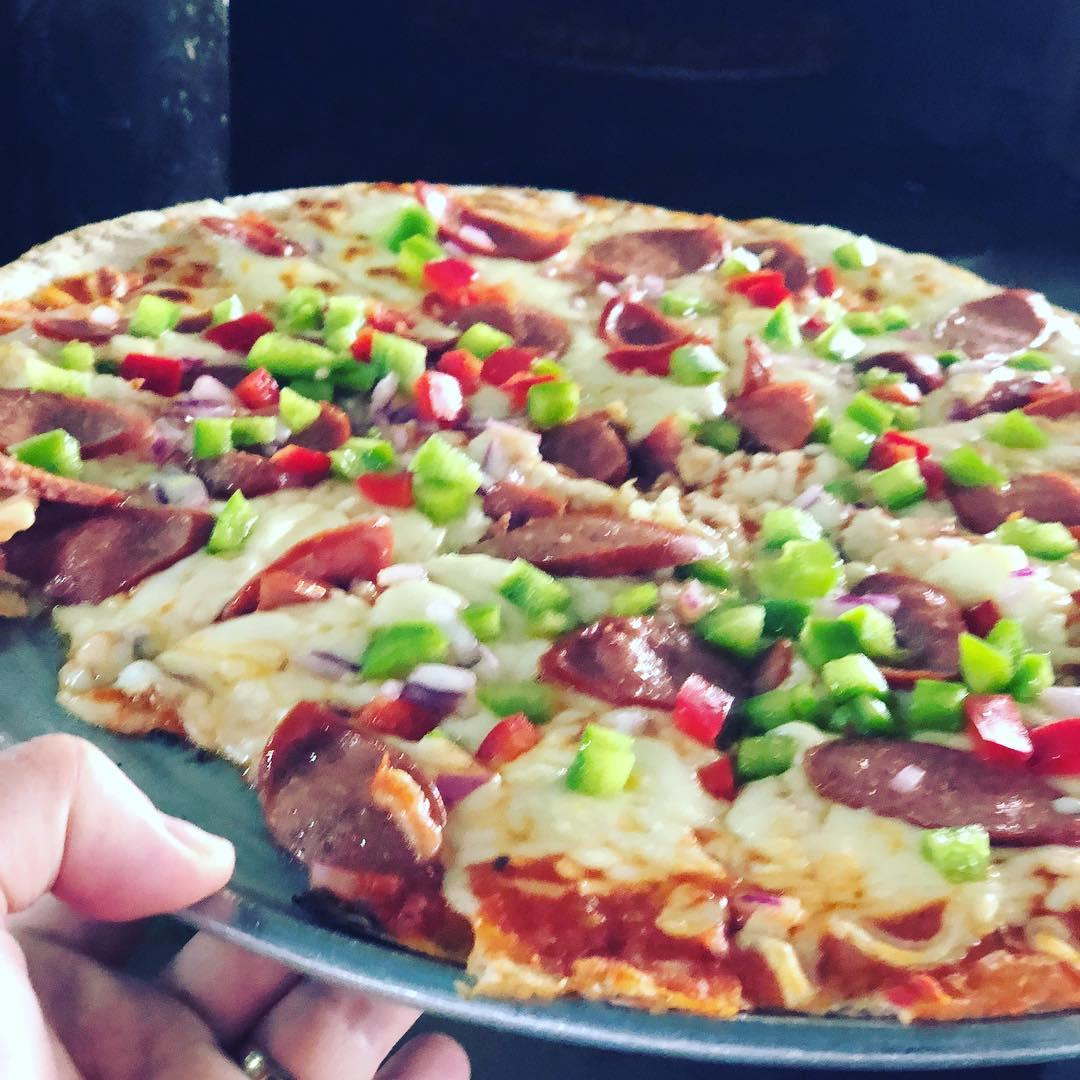Ham: (257, 705, 441, 893), (0, 461, 214, 596), (819, 737, 1076, 845), (553, 617, 785, 705), (473, 485, 702, 568), (855, 577, 966, 676), (0, 385, 133, 462), (427, 291, 570, 349), (589, 223, 730, 280), (949, 469, 1078, 528), (601, 291, 694, 372), (927, 289, 1042, 354), (441, 203, 570, 258), (545, 411, 634, 478), (737, 377, 810, 449), (193, 447, 288, 498), (637, 415, 689, 480), (31, 309, 117, 344)
Peppers: (249, 325, 401, 394), (747, 683, 956, 729), (745, 509, 842, 593), (681, 569, 776, 652), (411, 433, 485, 532), (951, 623, 1049, 688), (359, 621, 456, 686), (799, 605, 880, 677), (189, 401, 304, 448), (573, 723, 642, 797), (821, 385, 892, 456), (525, 355, 586, 430), (821, 305, 905, 352), (11, 423, 78, 473), (321, 429, 394, 473), (389, 207, 437, 273), (931, 831, 1000, 876), (865, 463, 930, 510), (475, 681, 560, 716), (497, 565, 569, 606), (753, 297, 802, 350), (289, 289, 349, 332), (731, 743, 797, 781), (209, 493, 258, 544), (949, 439, 996, 489), (997, 405, 1044, 452), (673, 343, 724, 385), (457, 313, 506, 353), (45, 337, 100, 369), (463, 593, 506, 633)
Pizza: (1, 177, 1080, 1016)
Tomatoes: (237, 527, 390, 605), (417, 343, 549, 416), (961, 689, 1029, 769), (731, 261, 830, 304), (355, 693, 442, 740), (475, 709, 533, 773), (207, 307, 285, 352), (411, 257, 481, 302), (669, 681, 722, 740), (115, 353, 186, 390), (1041, 717, 1080, 784), (273, 439, 332, 480), (355, 465, 414, 506), (869, 429, 925, 465), (695, 757, 744, 797), (241, 371, 276, 413)
